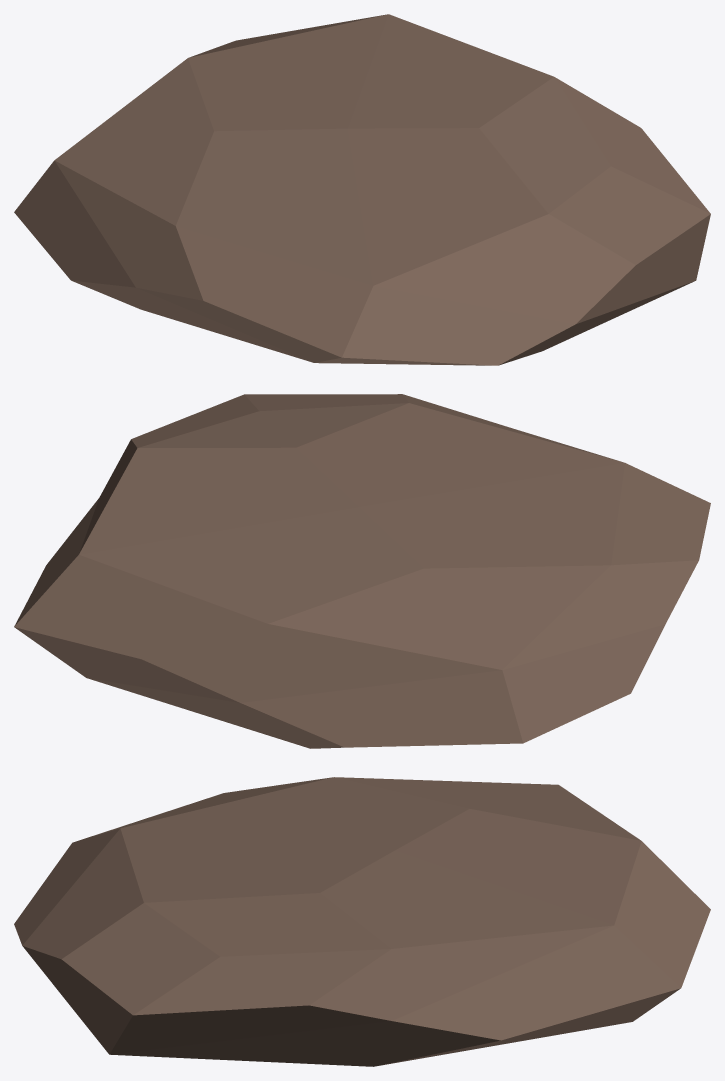
File: piedra_2.fbx
The picture shows the model from 3 angles, top to bottom: view 1: azimuth 30°, elevation 25°; view 2: azimuth 150°, elevation 25°; view 3: azimuth 270°, elevation 25°; orthographic projection. The views are drawn at different scales.
Visible parts, largest first — view 1: piedra_2; view 2: piedra_2; view 3: piedra_2.
Boxes of the visible parts, box(x1,y1,x2,y2) form: piedra_2: box(14, 14, 710, 365); piedra_2: box(14, 394, 710, 748); piedra_2: box(14, 777, 710, 1066).
Size of the model in its own units: 44.95 by 11.18 by 51.92.
